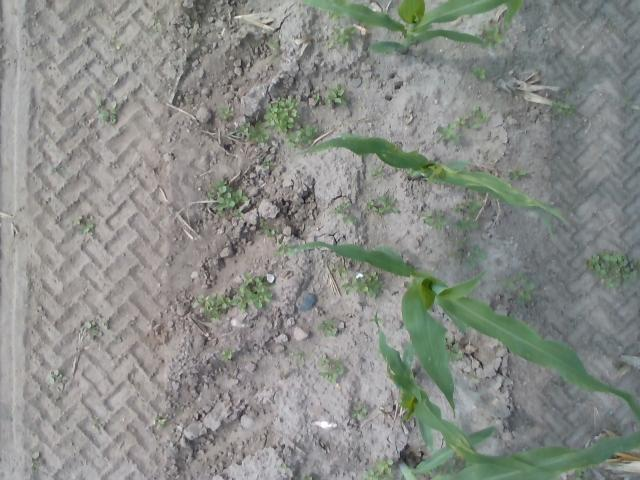Maize: (289, 242, 640, 425), (374, 308, 556, 474), (297, 132, 569, 238), (400, 425, 640, 480), (302, 0, 524, 55)
Weeds: (192, 272, 274, 324), (583, 248, 640, 296), (434, 106, 491, 151), (206, 177, 247, 218), (266, 92, 302, 134), (499, 269, 534, 304), (342, 270, 384, 298), (450, 236, 486, 267), (317, 350, 346, 386), (284, 123, 321, 150), (322, 24, 358, 50), (237, 118, 272, 144), (364, 193, 400, 216), (420, 205, 449, 232), (361, 456, 393, 480), (476, 22, 504, 49), (452, 193, 486, 215), (82, 316, 110, 342), (325, 81, 349, 108), (47, 371, 71, 398), (444, 338, 467, 364), (350, 398, 370, 422), (258, 216, 280, 237), (75, 214, 96, 236), (264, 38, 282, 62), (551, 100, 574, 118), (455, 216, 479, 232), (318, 318, 338, 336), (507, 169, 530, 184), (332, 199, 353, 215), (96, 111, 118, 126), (274, 242, 293, 258), (30, 451, 42, 476), (294, 348, 308, 369), (220, 346, 238, 362), (329, 260, 346, 276), (368, 164, 387, 178), (220, 106, 236, 122), (92, 88, 106, 106), (573, 469, 594, 480), (472, 68, 490, 80), (311, 91, 321, 108), (328, 12, 342, 24), (276, 463, 290, 475), (148, 24, 162, 36), (612, 360, 626, 372), (622, 96, 635, 108), (343, 214, 358, 224), (153, 417, 168, 427), (182, 94, 196, 104), (419, 47, 429, 60), (263, 159, 272, 172), (563, 88, 574, 98), (302, 474, 316, 480), (609, 21, 619, 29), (116, 42, 125, 50)
